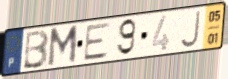4: (151, 13, 172, 53)
9: (115, 18, 138, 58)
B: (21, 28, 51, 71)
E: (82, 20, 113, 63)
J: (178, 9, 202, 50)
M: (46, 23, 80, 69)
